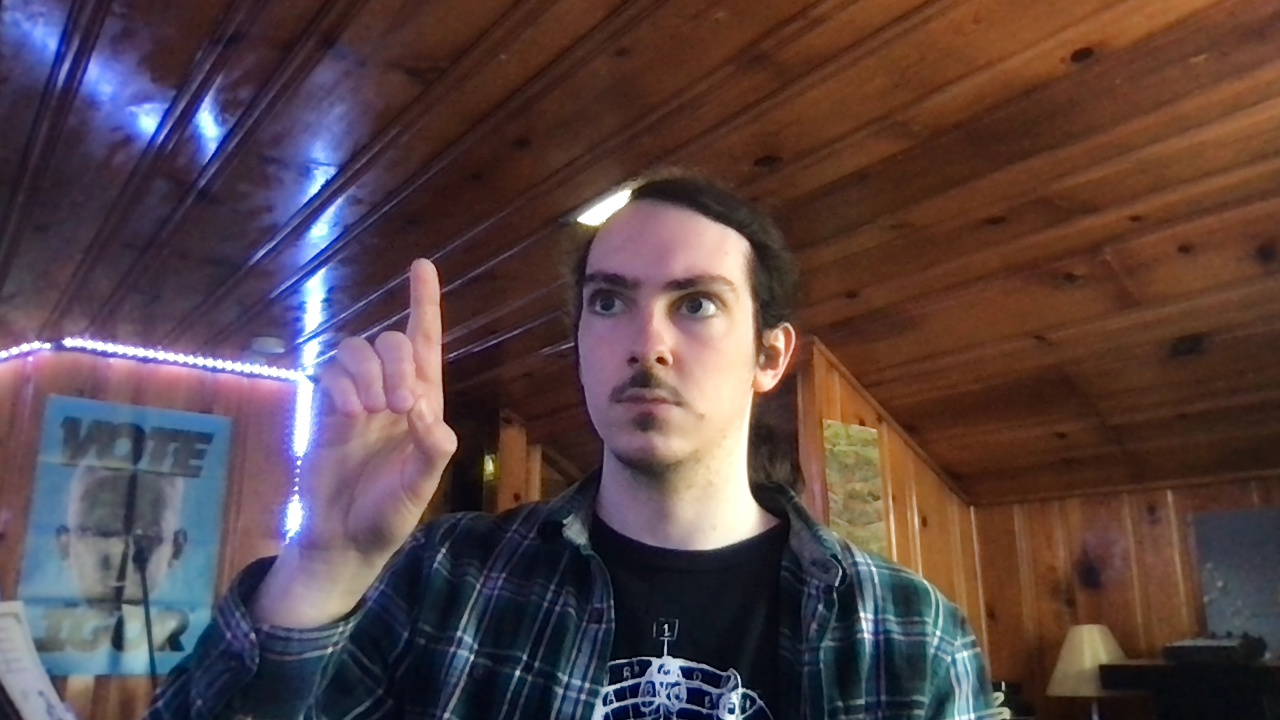d: (296, 254, 460, 556)
